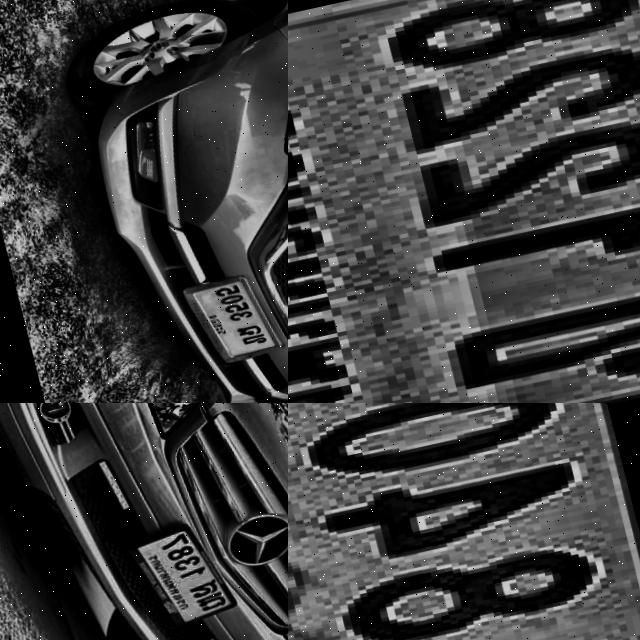license-plate: (288, 0, 640, 403), (288, 403, 640, 640), (107, 511, 240, 640), (162, 261, 286, 375)
